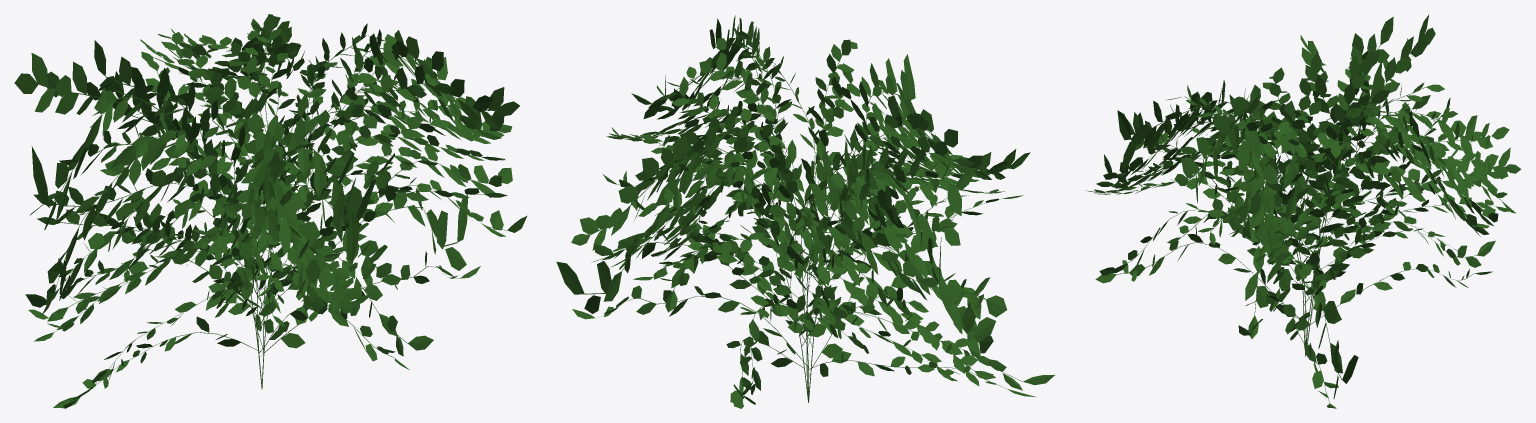
File: SadBush.fbx
The picture shows the model from 3 angles, left to right: view 1: azimuth 30°, elevation 25°; view 2: azimuth 150°, elevation 25°; view 3: azimuth 270°, elevation 25°; orthographic projection. The views are drawn at different scales.
Visible parts, largest first — view 1: SadBush; view 2: SadBush; view 3: SadBush.
Part boxes in pixels (x1,y1,x2,y2): SadBush: (14, 14, 527, 408); SadBush: (556, 15, 1054, 408); SadBush: (1086, 14, 1521, 408).
Size of the model in its own units: 321 by 234 by 303.
